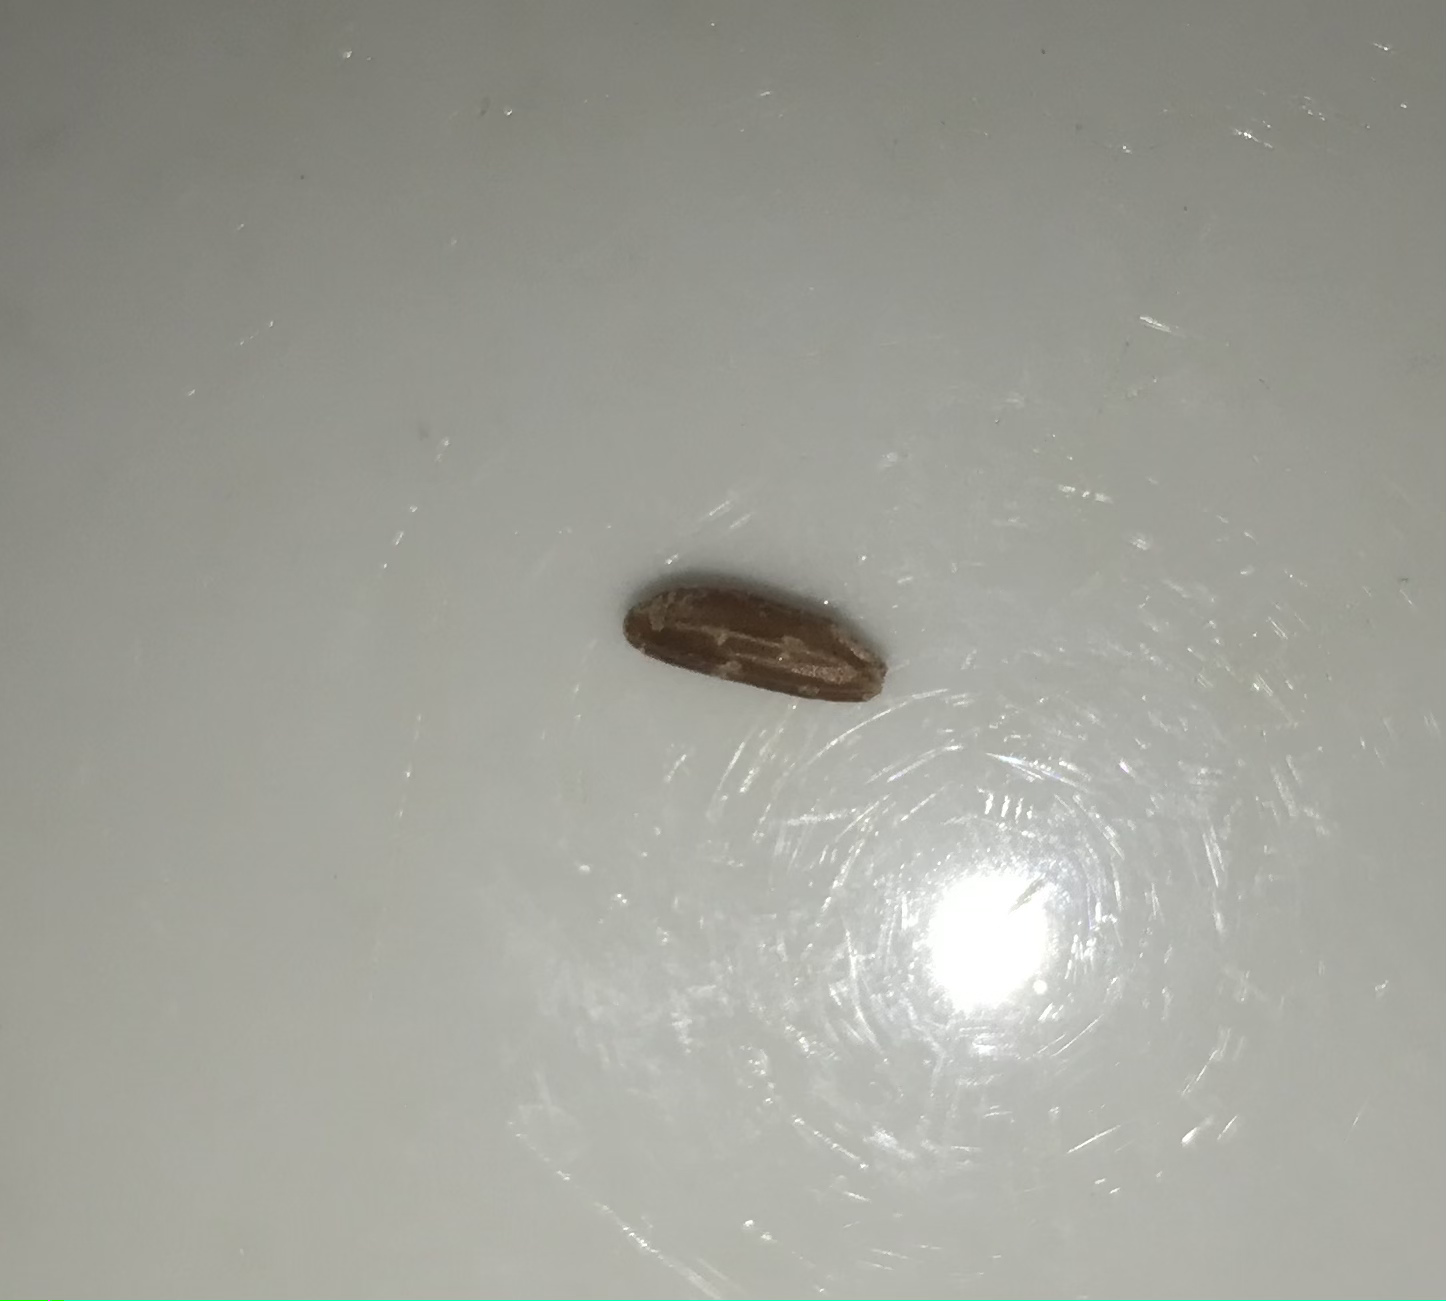Gao Lut Do: (611, 534, 913, 753)
